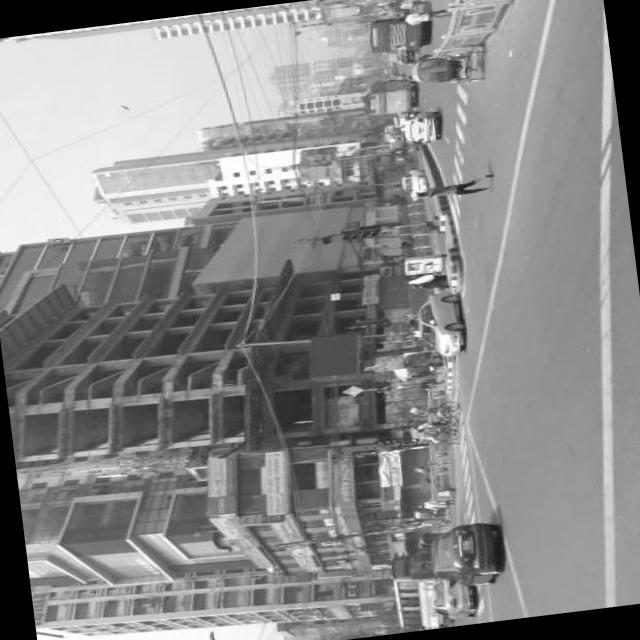bus: (386, 549, 447, 632), (363, 12, 422, 53), (357, 76, 412, 116)
car: (424, 518, 504, 590), (414, 287, 464, 358), (425, 574, 474, 620), (398, 108, 438, 144), (396, 166, 426, 192)
motorcycle: (406, 46, 485, 88), (406, 398, 462, 444), (409, 504, 449, 526), (414, 529, 442, 544), (408, 462, 432, 477), (384, 4, 410, 17)
